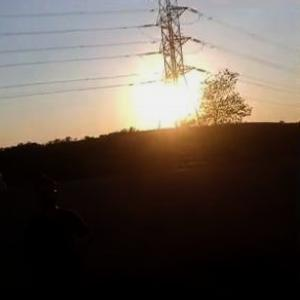follow: (11, 172, 97, 299)
